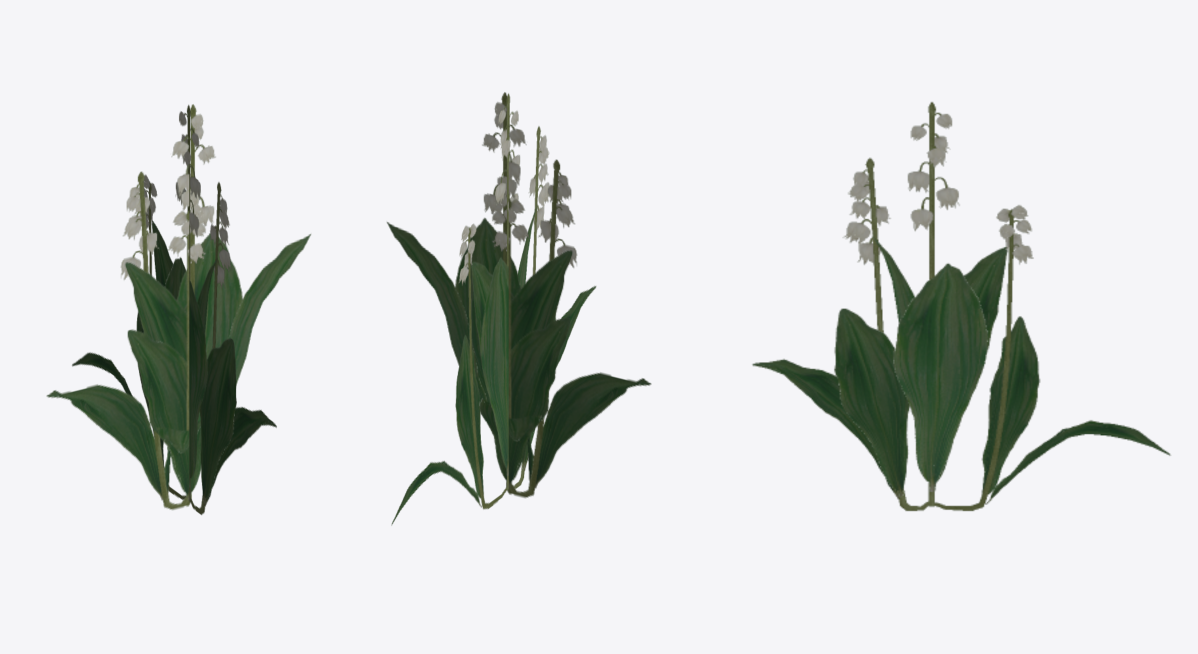
Rendered from ConvallariaMajalis.glb.
3 views of the same model, side by side, from view 1: azimuth 30°, elevation 25°; view 2: azimuth 150°, elevation 25°; view 3: azimuth 270°, elevation 25° (orthographic). The views are drawn at different scales.
Parts seen in each view (by area): view 1: mesh__mat_billboard_4; view 2: mesh__mat_billboard_4; view 3: mesh__mat_billboard_4.
Boxes of the visible parts, x1,y1,x2,y2 form: mesh__mat_billboard_4: (46, 104, 310, 514); mesh__mat_billboard_4: (387, 92, 651, 525); mesh__mat_billboard_4: (752, 102, 1170, 511).
Bounding box in the file's own units: 0.2029 × 0.2763 × 0.2533.
Materials: 1 (1 with a texture image).
